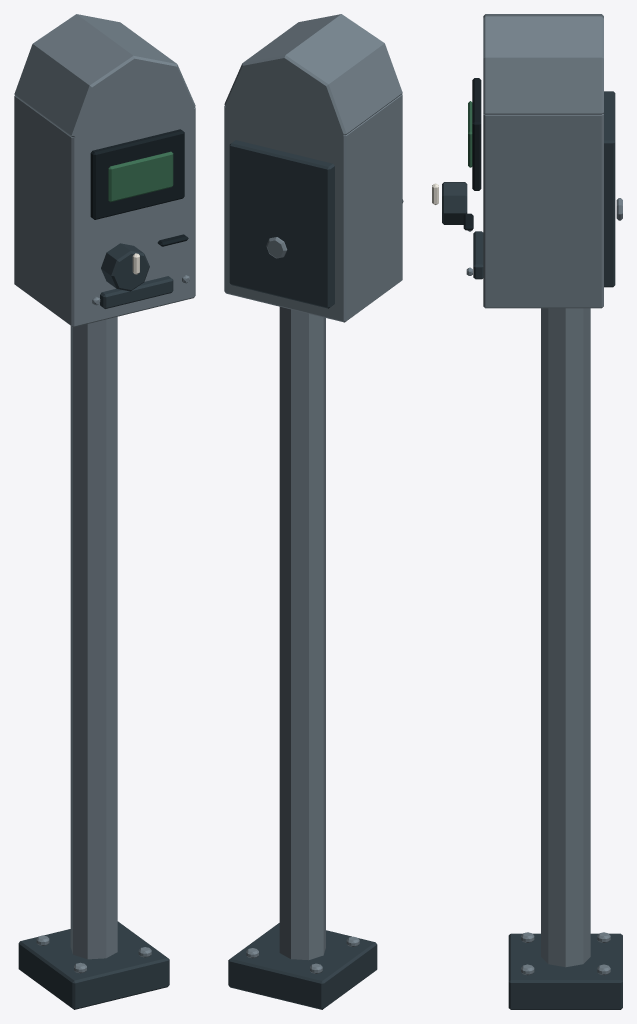
The model's file is b02_single_parking_meter.glb.
3 renders of one model, left to right at view 1: azimuth 30°, elevation 25°; view 2: azimuth 150°, elevation 25°; view 3: azimuth 270°, elevation 25°, orthographic. The views are drawn at different scales.
Parts seen in each view (by area): view 1: b02_single_parking_meter; view 2: b02_single_parking_meter; view 3: b02_single_parking_meter.
Boxes of the visible parts, box(x1,y1,x2,y2) form: b02_single_parking_meter: box(14, 14, 195, 1009); b02_single_parking_meter: box(224, 14, 403, 1009); b02_single_parking_meter: box(432, 14, 622, 1009).
Bounding box in the file's own units: 0.23 × 1.68 × 0.3006.
